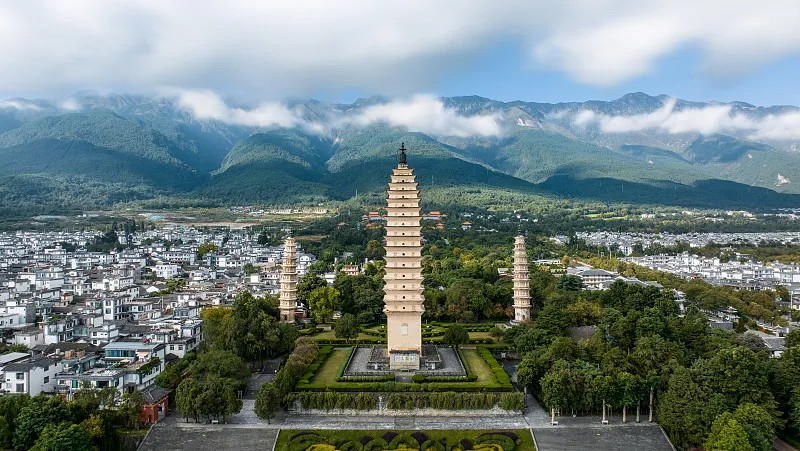ThreePagoda: (383, 142, 425, 354)
